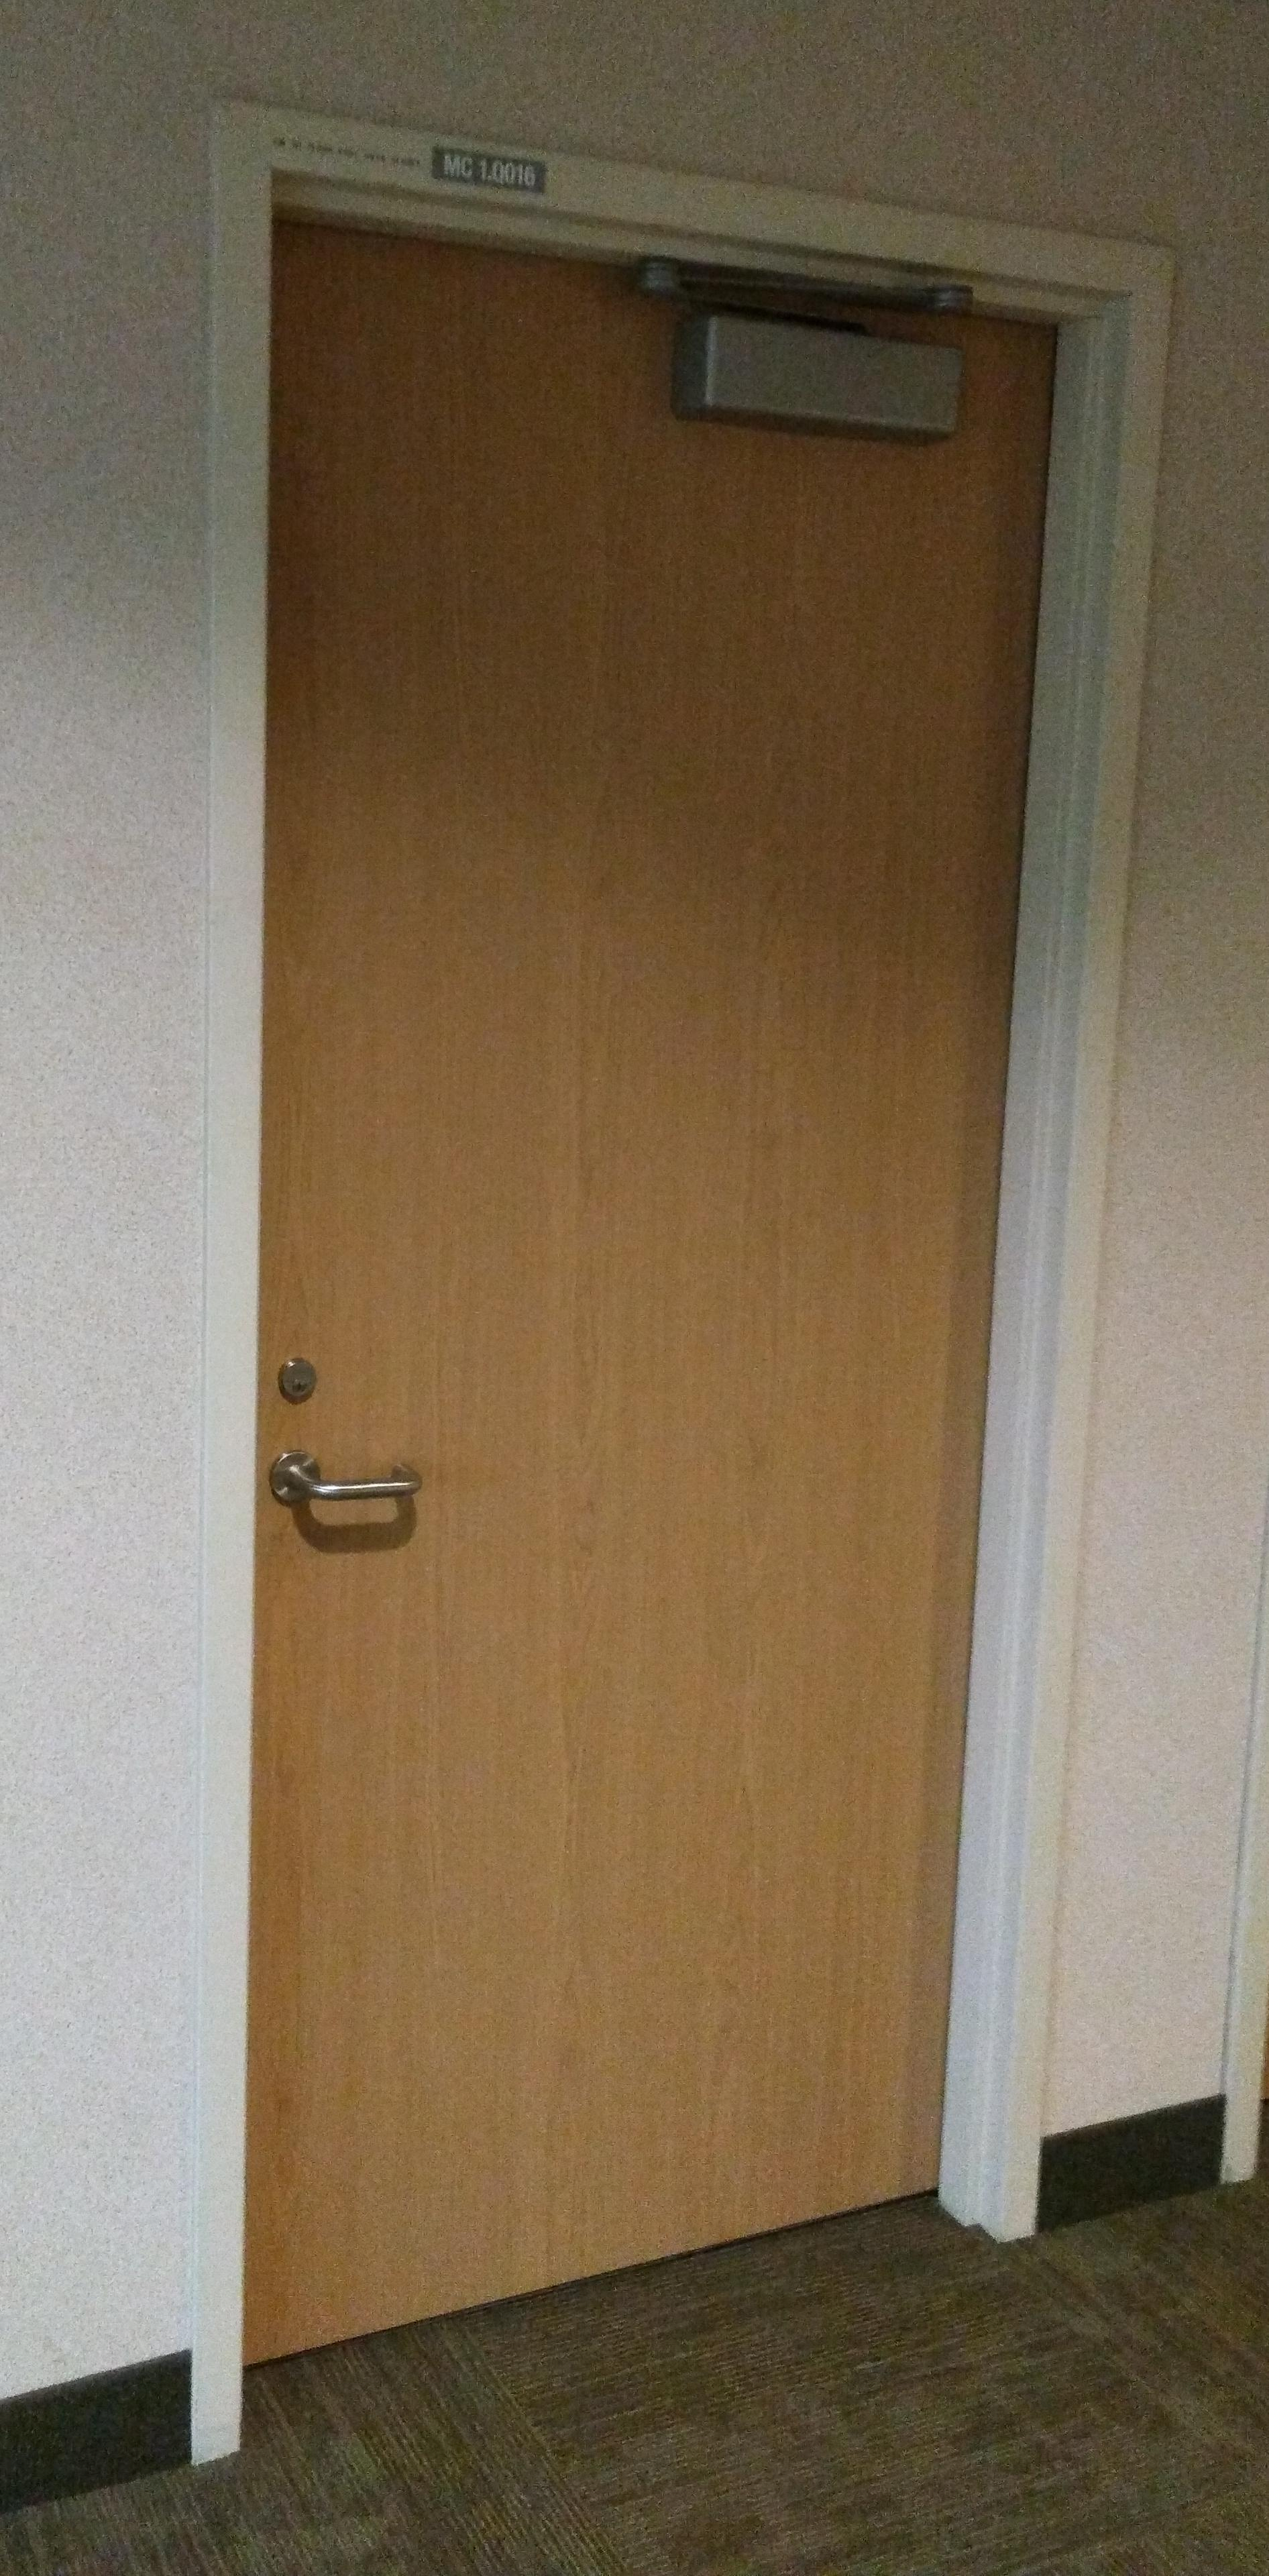door: (238, 163, 978, 2366)
